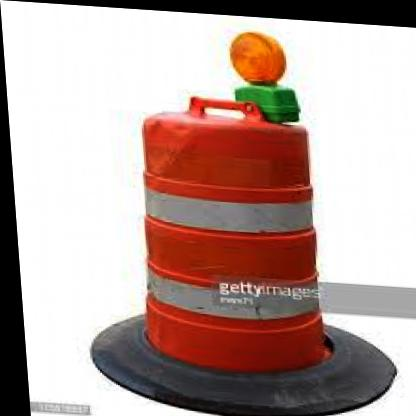obstacle: (110, 88, 349, 385)
